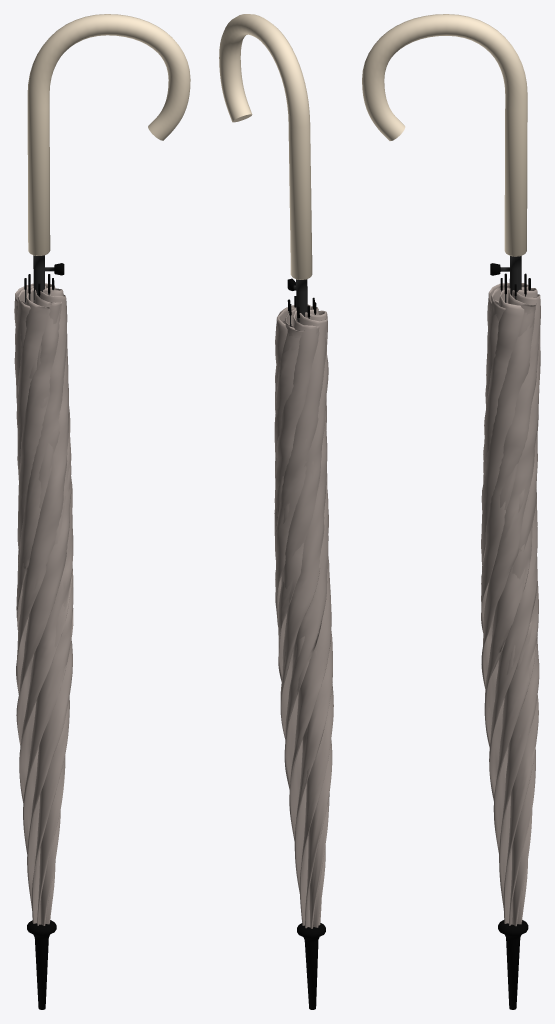
Rendered from umbrella.glb.
3 views of the same model, side by side, from view 1: azimuth 90°, elevation 25°; view 2: azimuth 210°, elevation 25°; view 3: azimuth 270°, elevation 25° (orthographic). The views are drawn at different scales.
Parts seen in each view (by area): view 1: umbrella; view 2: umbrella; view 3: umbrella.
Part boxes in pixels (box(x1,y1,x2,y2)): umbrella: box(14, 14, 190, 1009); umbrella: box(219, 14, 333, 1009); umbrella: box(362, 14, 540, 1009).
Size of the model in its own units: 0.0418 by 0.7109 by 0.1151.
